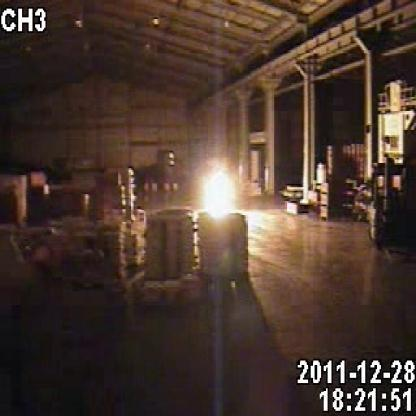fire: (200, 147, 244, 245)
